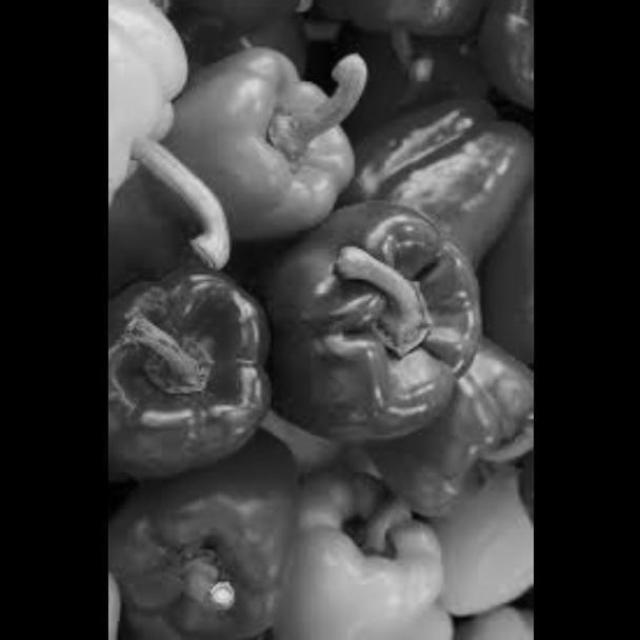bell pepper: (279, 145, 479, 442), (109, 240, 283, 480), (109, 423, 297, 640), (168, 38, 364, 235), (344, 92, 534, 272), (291, 446, 465, 640), (386, 317, 534, 531), (109, 1, 210, 224), (303, 0, 493, 86), (458, 1, 534, 123), (454, 528, 534, 640)
